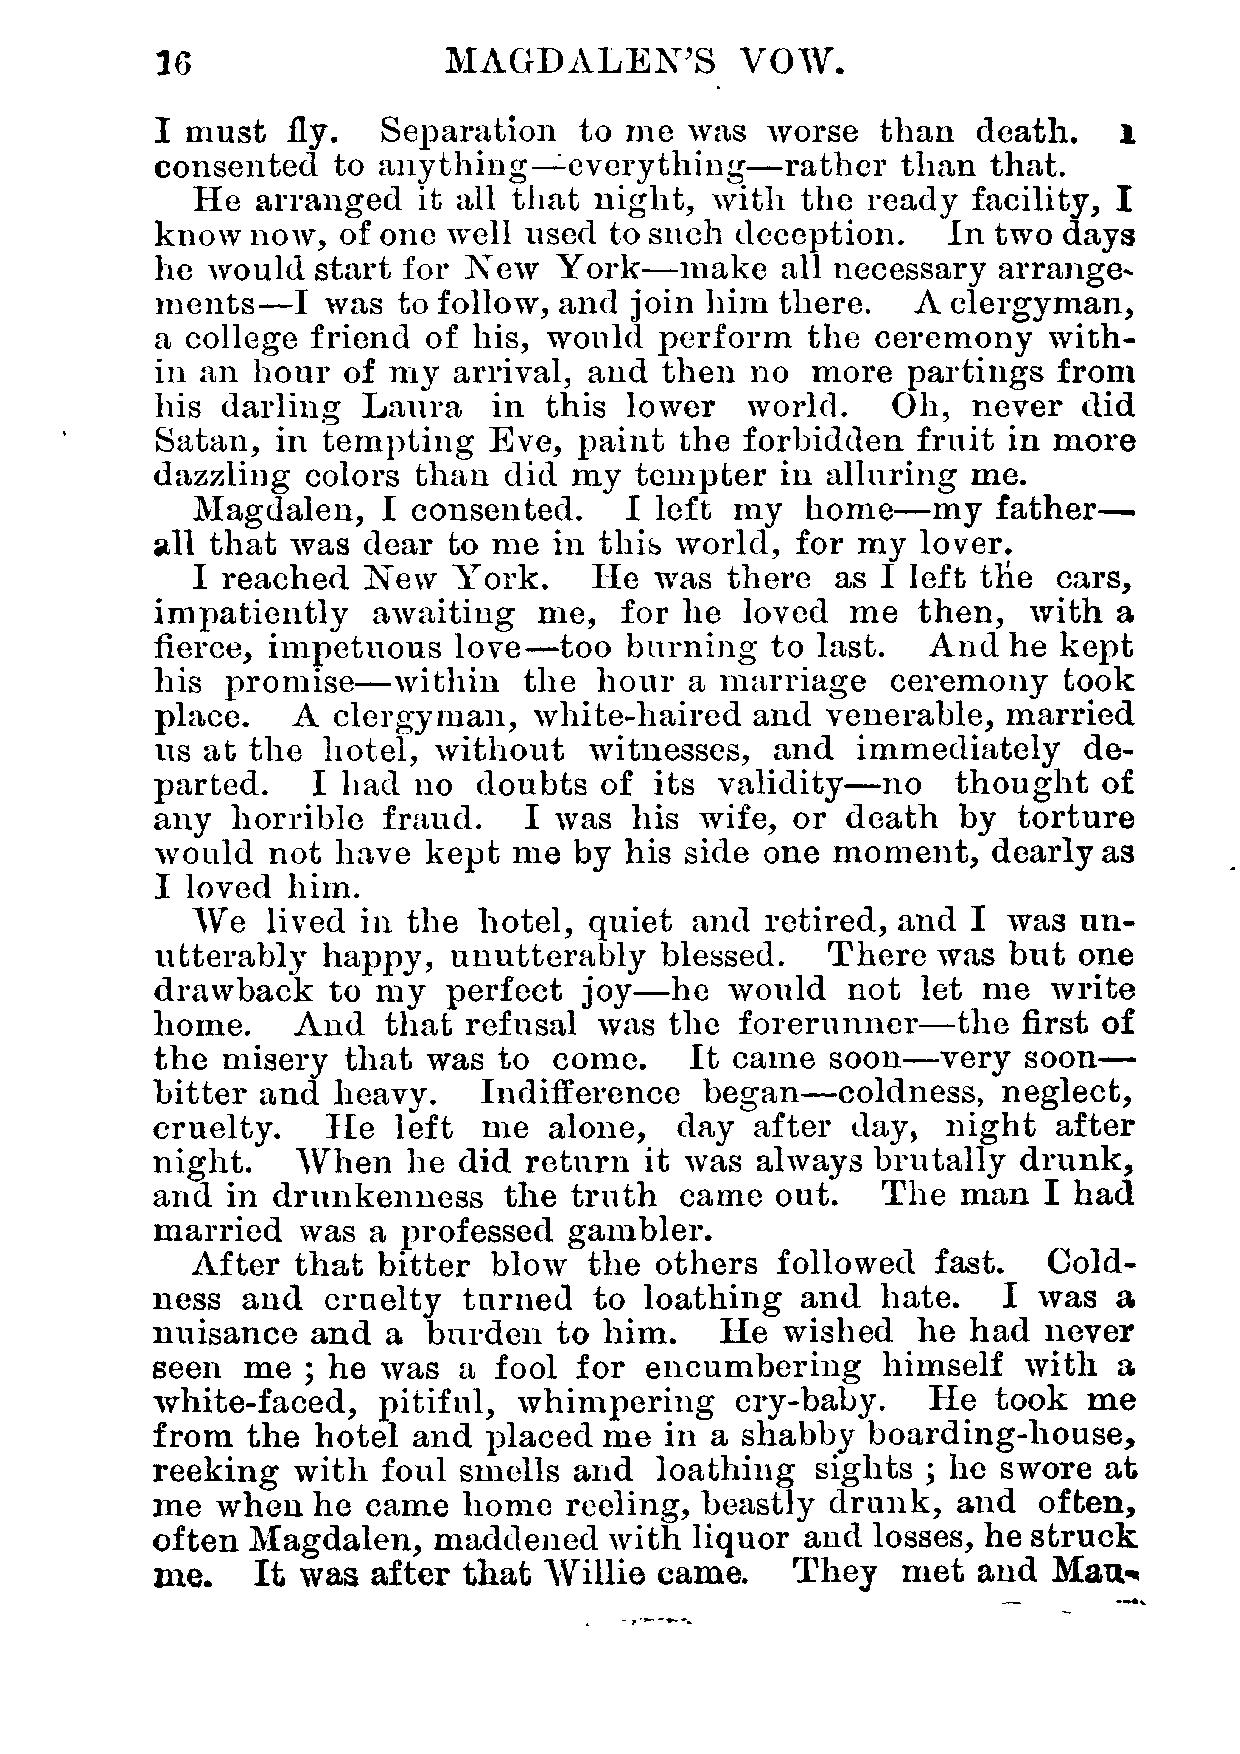content: (144, 111, 1143, 1596)
content_chapter: (436, 43, 848, 79)
content_pagenumber: (157, 38, 195, 83)
